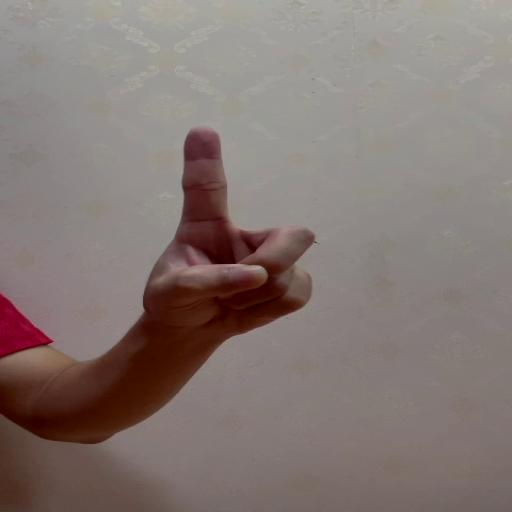point: (164, 125, 318, 329)
